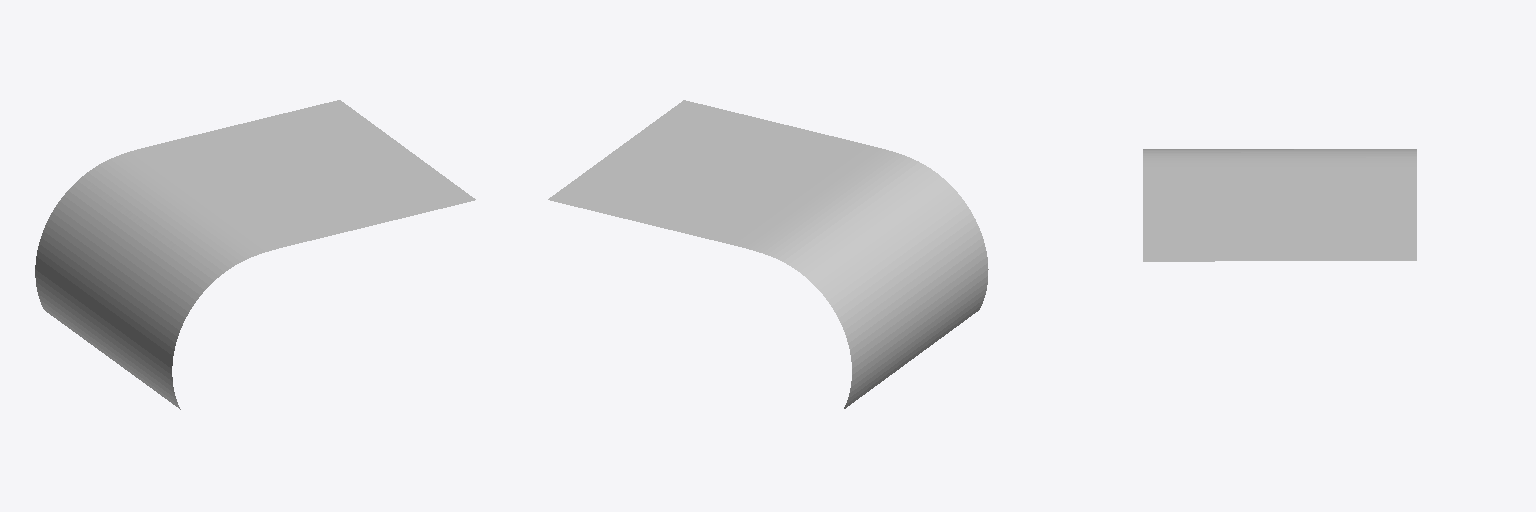
Rendered from CurvePaper_000051.obj.
3 views of the same model, side by side, from view 1: azimuth 30°, elevation 25°; view 2: azimuth 150°, elevation 25°; view 3: azimuth 270°, elevation 25° (orthographic).
Parts seen in each view (by area): view 1: Plane; view 2: Plane; view 3: Plane.
Boxes of the visible parts, <box> form: Plane: <box>35,100,475,409</box>; Plane: <box>548,100,988,408</box>; Plane: <box>1143,149,1416,261</box>.
Bounding box in the file's own units: 2.91 × 1.26 × 2.26.